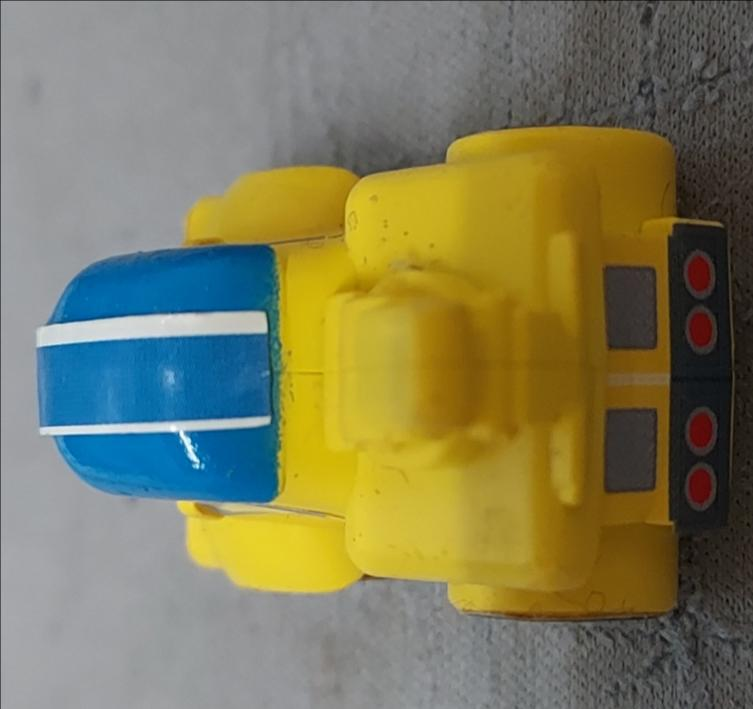car: (1, 0, 753, 709)
